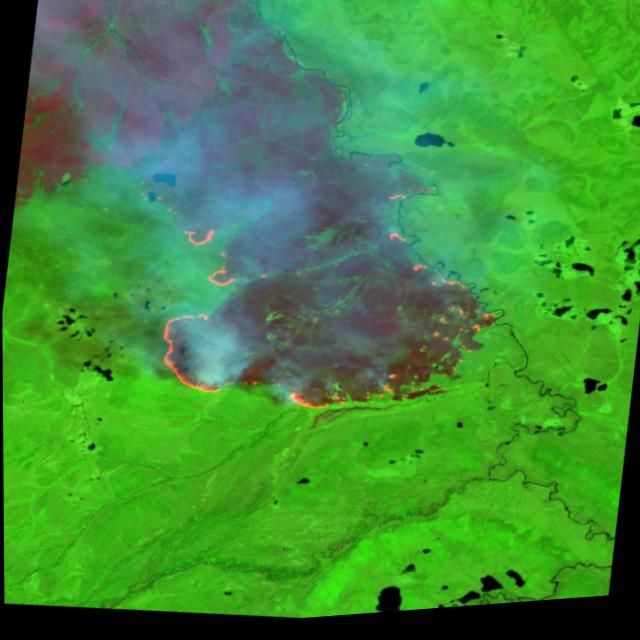fire: (279, 179, 510, 440), (148, 223, 272, 407)
